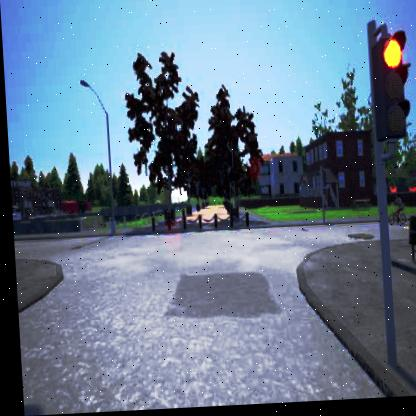bike: (384, 199, 403, 227)
